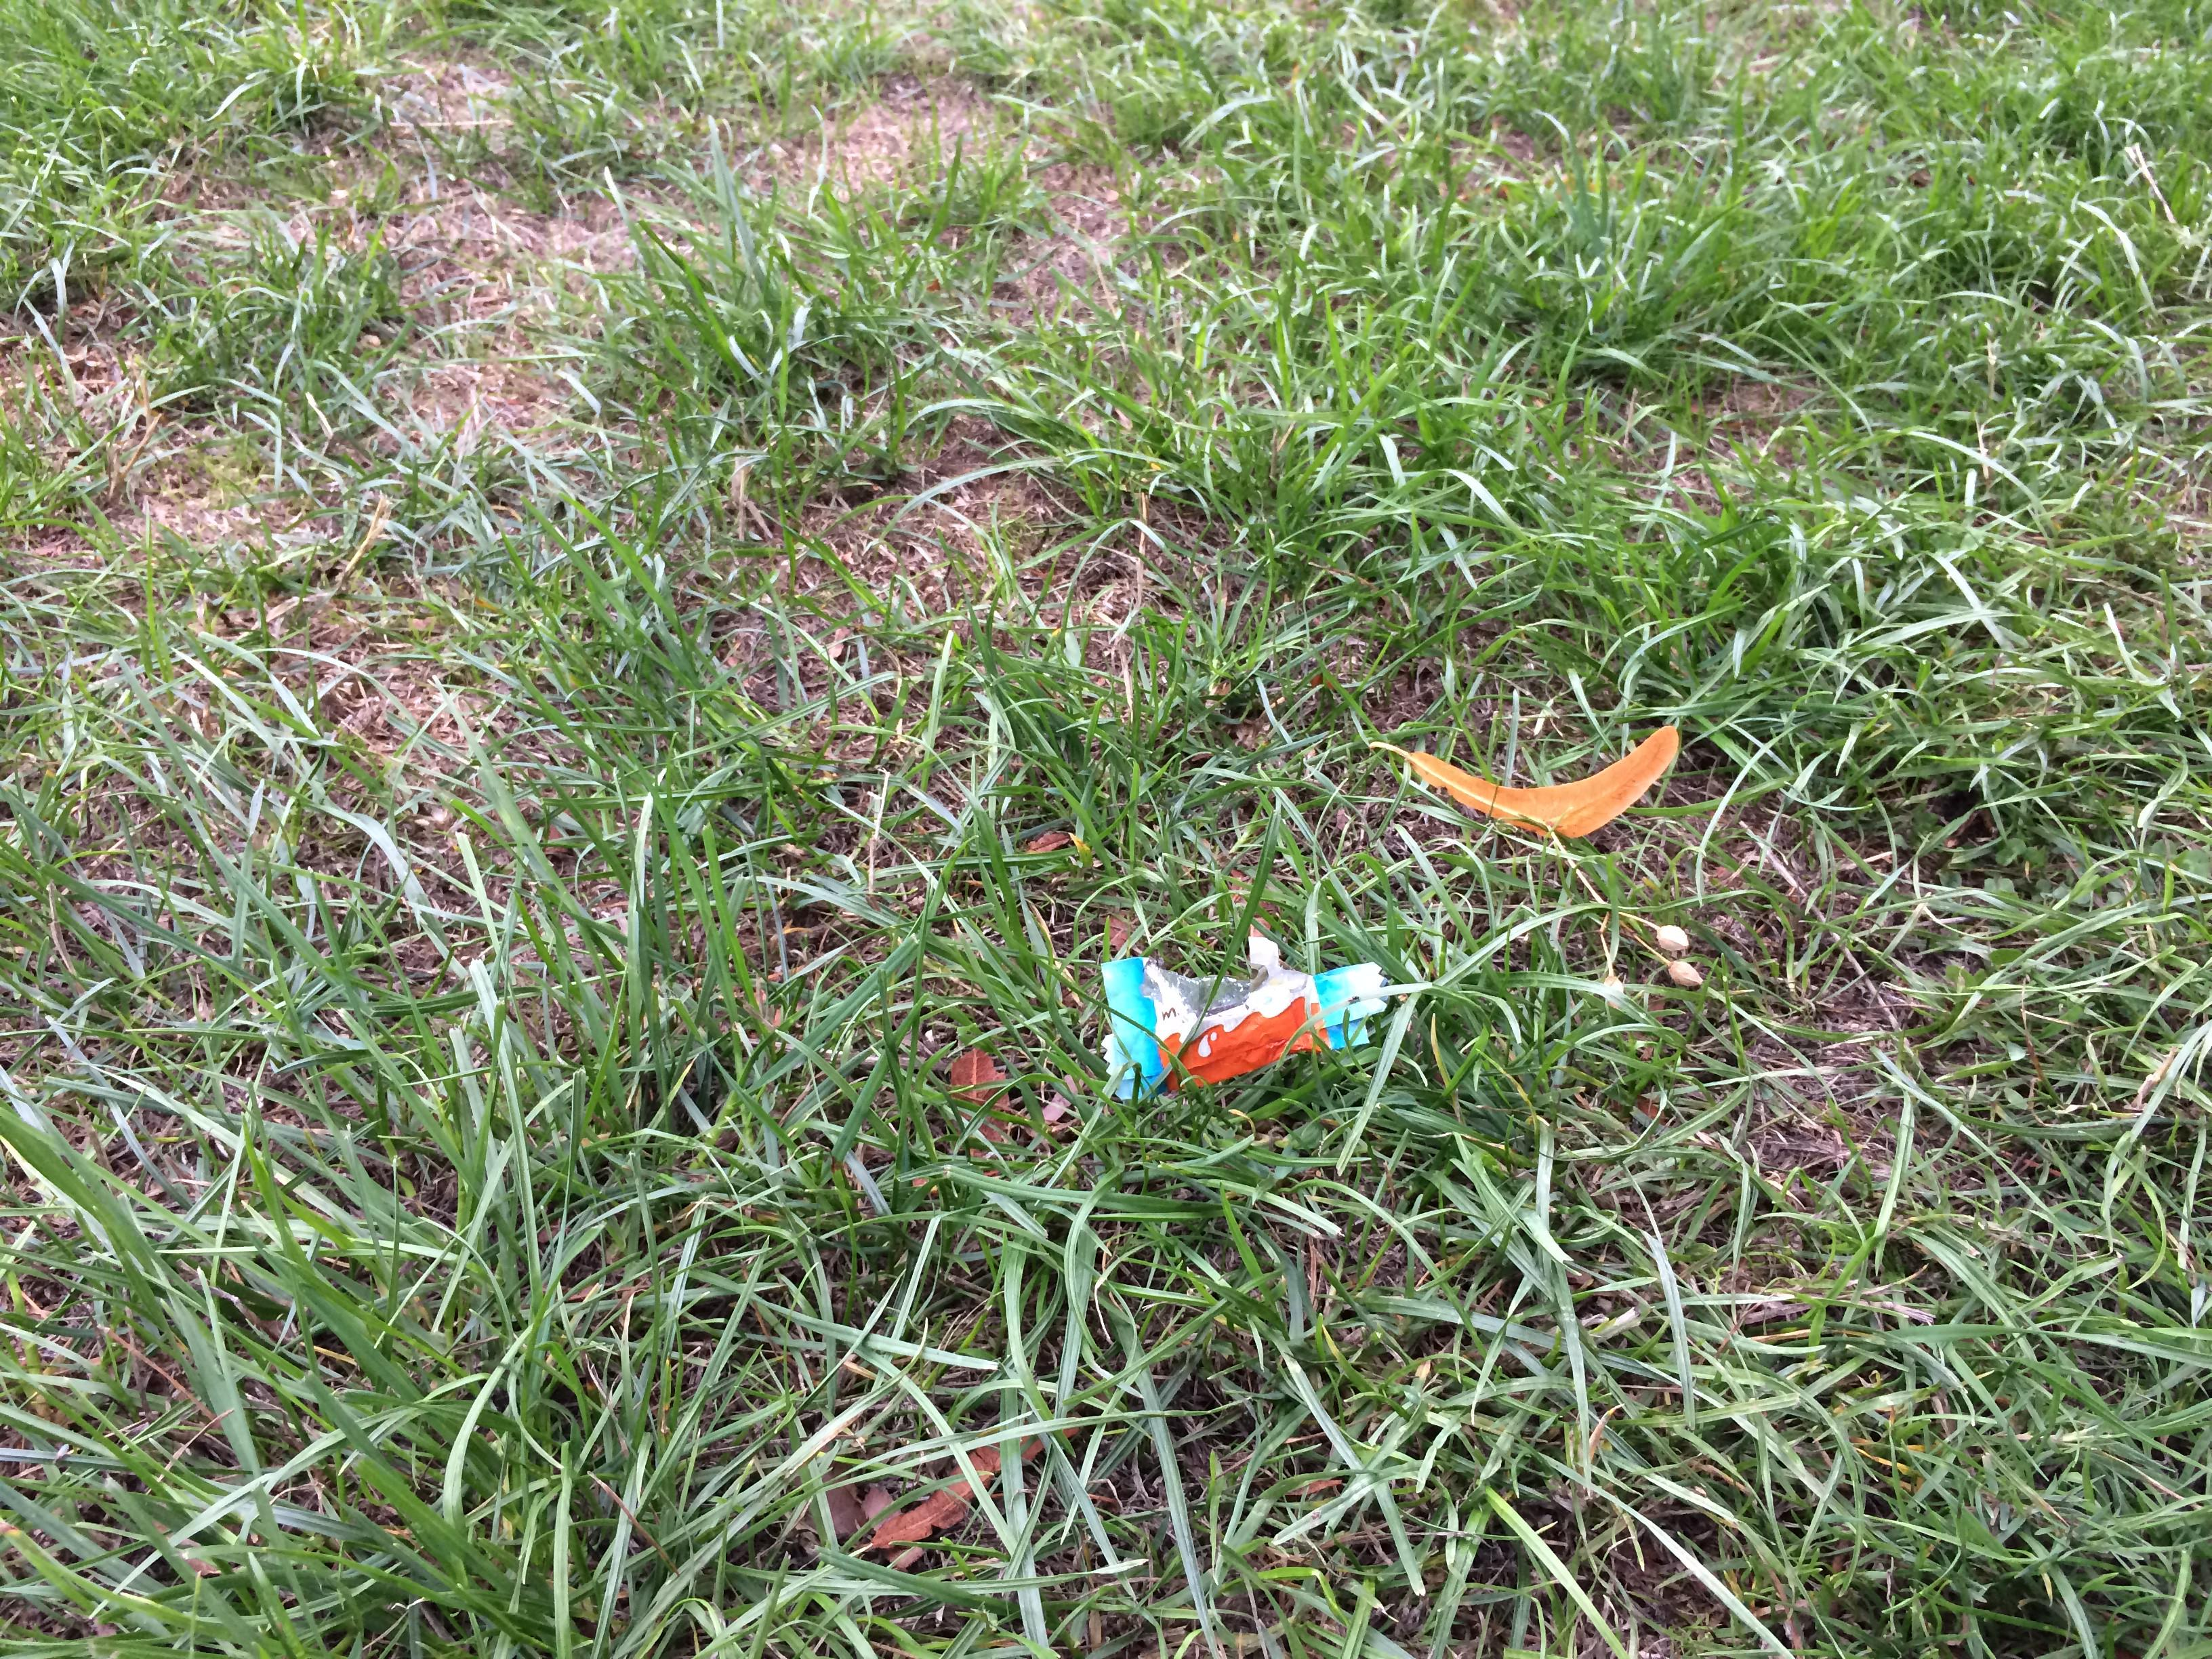Trash: (1097, 941, 1402, 1108)
